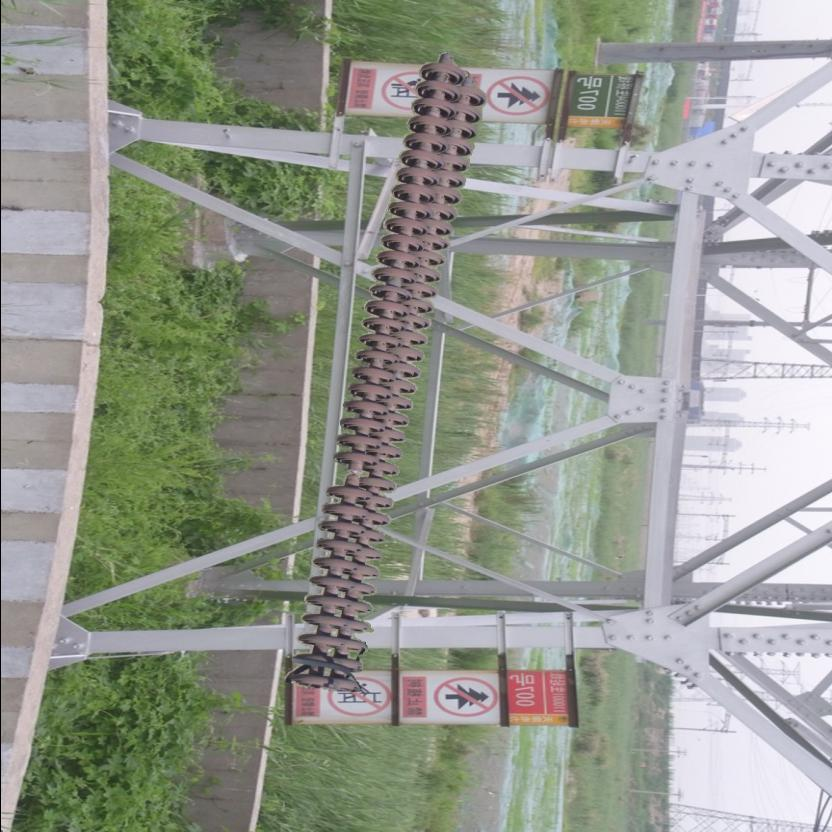defect: (326, 447, 380, 503)
